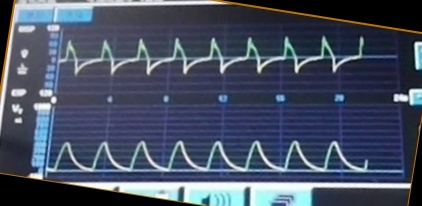Accumulation Flow: (61, 28, 378, 89)
Volume: (52, 132, 393, 180)
